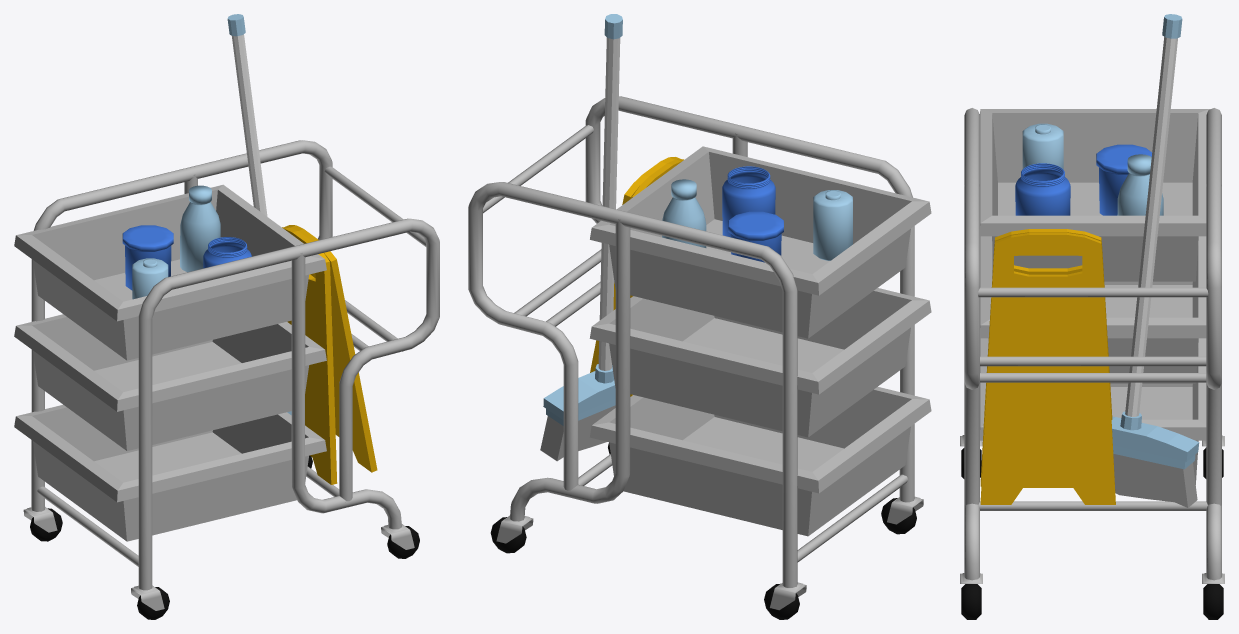
File: Cleaning Set.fbx
3 renders of one model, left to right at view 1: azimuth 30°, elevation 25°; view 2: azimuth 150°, elevation 25°; view 3: azimuth 270°, elevation 25°, orthographic. The views are drawn at different scales.
Visible parts, largest first — view 1: Plane.044, Plane.042, Cube.007, Cylinder.006, Cylinder.004, Cylinder.005, Cylinder.003; view 2: Plane.044, Cube.007, Cylinder.005, Cylinder.003, Cylinder.004, Cylinder.006, Plane.042; view 3: Plane.044, Plane.042, Cube.007, Cylinder.003, Cylinder.004, Cylinder.006, Cylinder.005.
Boxes of the visible parts, bbox=[...] form: Plane.044: bbox=[14, 140, 439, 619]; Plane.042: bbox=[282, 225, 377, 484]; Cube.007: bbox=[227, 14, 291, 415]; Cylinder.006: bbox=[180, 185, 220, 272]; Cylinder.004: bbox=[122, 225, 173, 290]; Cylinder.005: bbox=[132, 258, 168, 299]; Cylinder.003: bbox=[203, 237, 251, 268]; Plane.044: bbox=[468, 96, 931, 619]; Cube.007: bbox=[540, 14, 622, 461]; Cylinder.005: bbox=[813, 190, 852, 260]; Cylinder.003: bbox=[722, 166, 775, 237]; Cylinder.004: bbox=[728, 211, 783, 262]; Cylinder.006: bbox=[662, 179, 706, 247]; Plane.042: bbox=[590, 157, 683, 396]; Plane.044: bbox=[960, 108, 1224, 619]; Plane.042: bbox=[980, 229, 1115, 504]; Cube.007: bbox=[1111, 14, 1199, 507]; Cylinder.003: bbox=[1015, 163, 1070, 215]; Cylinder.004: bbox=[1096, 144, 1151, 215]; Cylinder.006: bbox=[1117, 154, 1163, 215]; Cylinder.005: bbox=[1022, 123, 1063, 169].
Bounding box in the file's own units: 847 × 1255 × 539.
